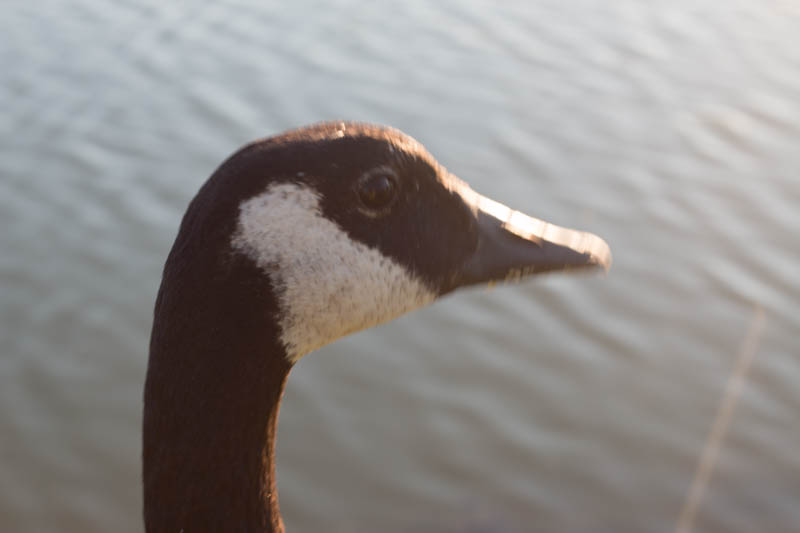goose-head: (148, 119, 610, 373)
